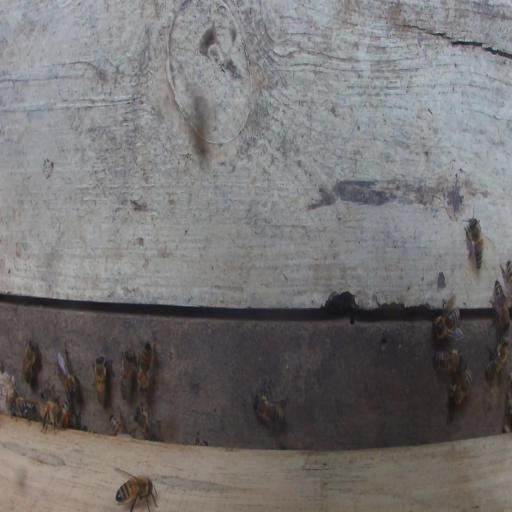nonpollenbee: (116, 473, 155, 512), (254, 394, 286, 431), (464, 217, 484, 271), (57, 353, 79, 400), (433, 305, 461, 341), (486, 338, 510, 376), (449, 366, 473, 403), (134, 406, 159, 441), (494, 279, 509, 334), (137, 342, 152, 393), (432, 348, 462, 372), (120, 350, 134, 401), (39, 401, 61, 433), (94, 355, 107, 407), (9, 396, 35, 419), (23, 340, 36, 386), (109, 413, 125, 437), (507, 261, 512, 294)
pollenbee: (59, 401, 69, 428)
